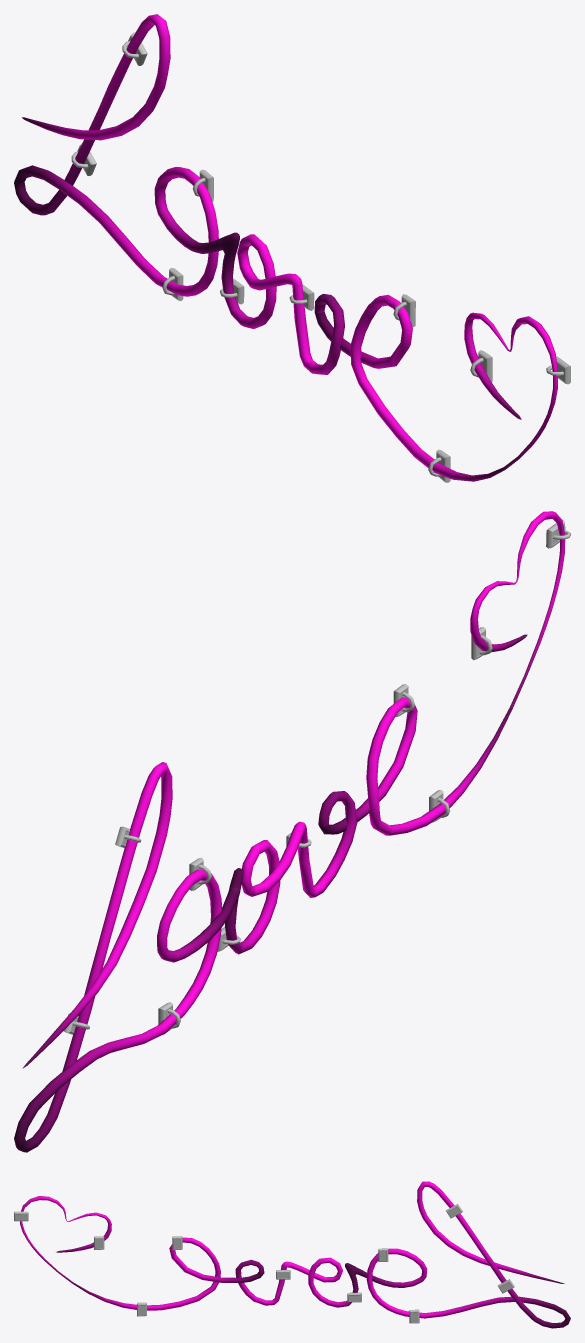
The model's file is Prop_Sign_Love.fbx.
3 views of the same model, one above another, from view 1: azimuth 30°, elevation 25°; view 2: azimuth 150°, elevation 25°; view 3: azimuth 270°, elevation 25° (orthographic). The views are drawn at different scales.
Visible parts, largest first — view 1: Prop_Sign_Love; view 2: Prop_Sign_Love; view 3: Prop_Sign_Love.
Part boxes in pixels (x1=…): Prop_Sign_Love: x1=14, y1=14, x2=570, y2=482; Prop_Sign_Love: x1=14, y1=511, x2=570, y2=1152; Prop_Sign_Love: x1=14, y1=1181, x2=570, y2=1328.
Bounding box in the file's own units: 5.44 × 70.33 × 242.
